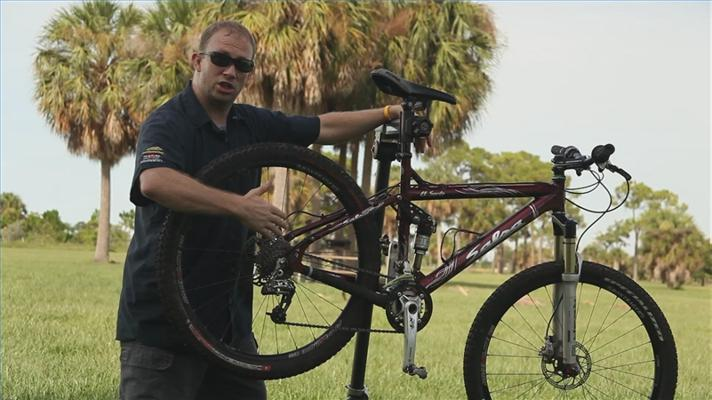person: (116, 20, 437, 400)
